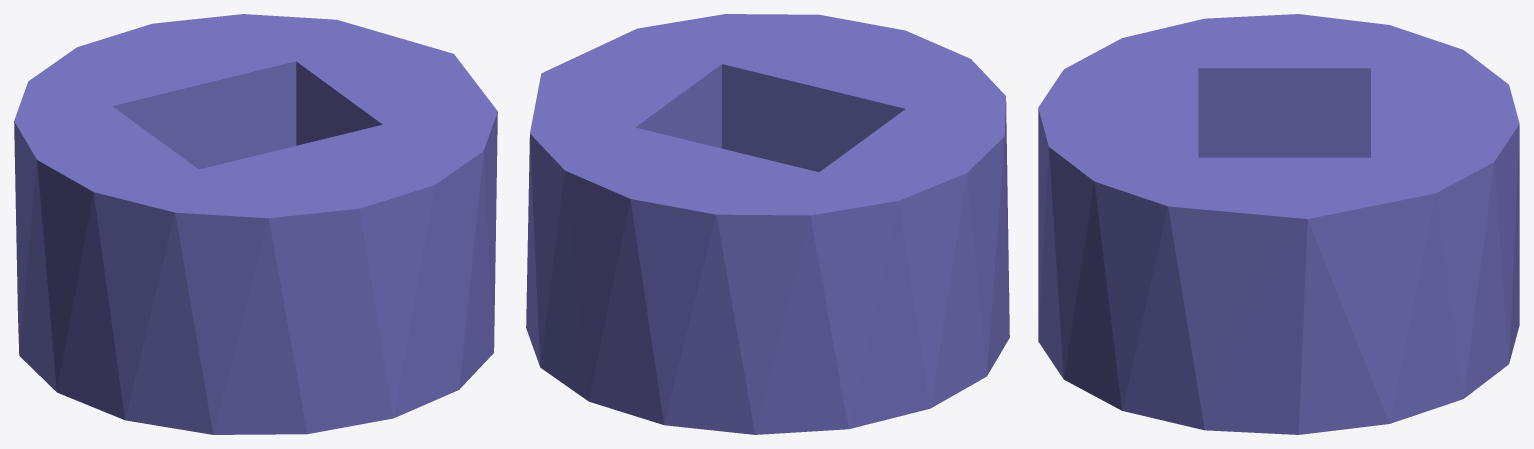
Rendered from joint4.dae.
3 renders of one model, left to right at view 1: azimuth 30°, elevation 25°; view 2: azimuth 150°, elevation 25°; view 3: azimuth 270°, elevation 25°, orthographic.
Visible parts, largest first — view 1: Link3_003; view 2: Link3_003; view 3: Link3_003.
Part boxes in pixels (x1=…): Link3_003: x1=14, y1=14, x2=497, y2=434; Link3_003: x1=526, y1=14, x2=1009, y2=434; Link3_003: x1=1038, y1=14, x2=1519, y2=434.
Size of the model in its own units: 0.1699 by 0.1686 by 0.084.
